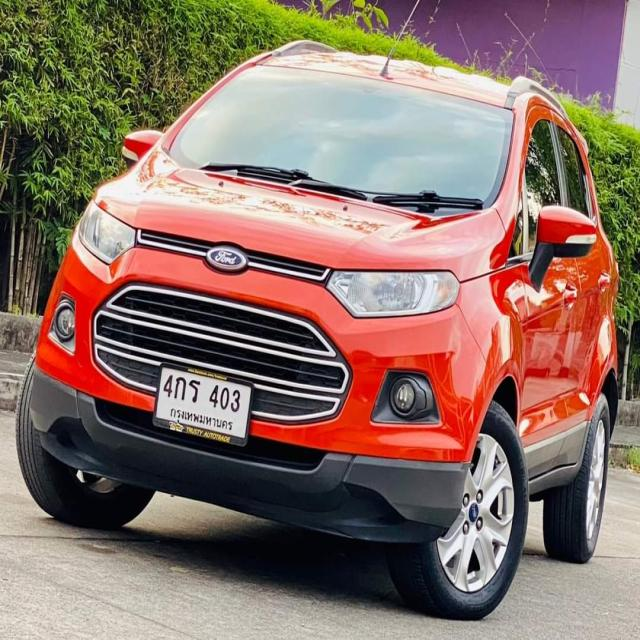license_plate: (150, 358, 255, 457)
